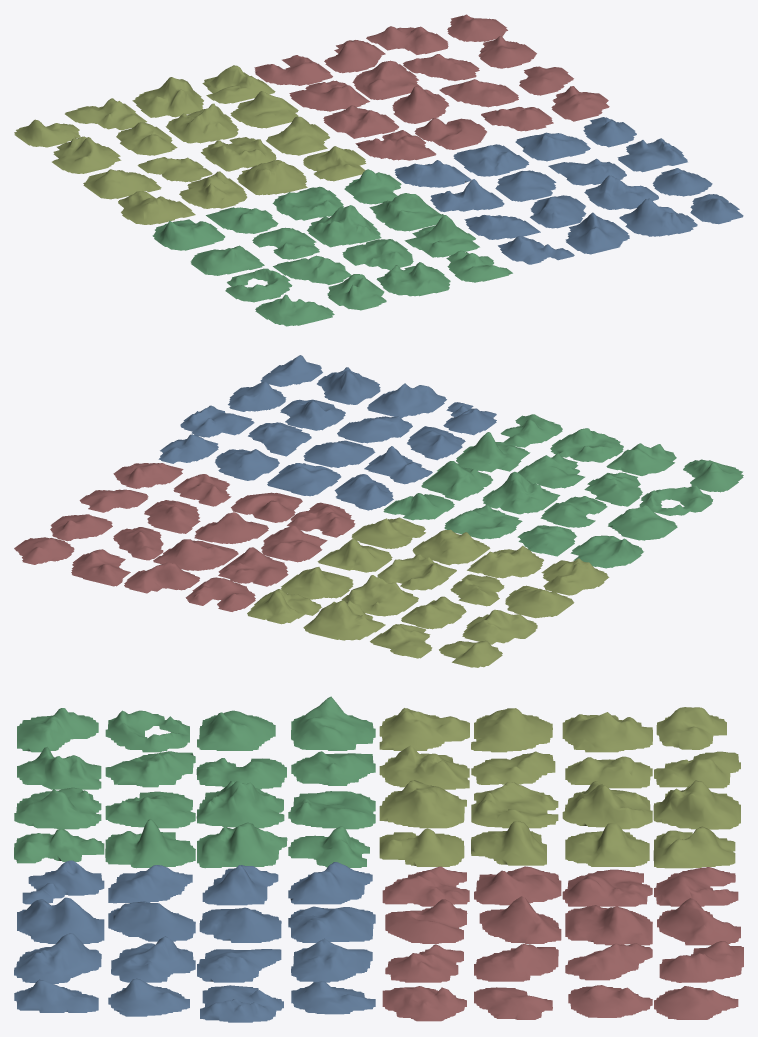
File: Islands Landscapes very low.fbx
3 renders of one model, top to bottom at view 1: azimuth 30°, elevation 25°; view 2: azimuth 150°, elevation 25°; view 3: azimuth 270°, elevation 25°, orthographic. The views are drawn at different scales.
Visible parts, largest first — view 1: Island 46 very low, Island 06 very low, Island 14 very low, Island 58 very low, Island 45 very low, Island 30 very low, Island 11 very low, Island 16 very low, Island 53 very low, Island 22 very low, Island 62 very low, Island 32 very low (+52 smaller); view 2: Island 06 very low, Island 46 very low, Island 14 very low, Island 22 very low, Island 59 very low, Island 30 very low, Island 16 very low, Island 53 very low, Island 11 very low, Island 12 very low, Island 62 very low, Island 32 very low (+52 smaller); view 3: Island 30 very low, Island 06 very low, Island 22 very low, Island 46 very low, Island 14 very low, Island 45 very low, Island 40 very low, Island 11 very low, Island 62 very low, Island 53 very low, Island 59 very low, Island 16 very low (+52 smaller).
Boxes of the visible parts, x1,y1,x2,y2 form: Island 46 very low: [307, 205, 381, 247]; Island 06 very low: [132, 77, 203, 117]; Island 14 very low: [165, 103, 238, 143]; Island 58 very low: [619, 198, 697, 236]; Island 45 very low: [369, 193, 443, 231]; Island 30 very low: [237, 160, 307, 195]; Island 11 very low: [352, 60, 421, 99]; Island 16 very low: [52, 136, 121, 173]; Island 53 very low: [404, 215, 479, 257]; Island 22 very low: [201, 137, 276, 171]; Island 62 very low: [376, 262, 450, 296]; Island 32 very low: [118, 191, 195, 224]; Island 06 very low: [303, 600, 385, 640]; Island 46 very low: [482, 471, 560, 514]; Island 14 very low: [341, 575, 418, 616]; Island 22 very low: [377, 554, 456, 590]; Island 59 very low: [367, 383, 446, 418]; Island 30 very low: [412, 529, 490, 565]; Island 16 very low: [462, 609, 537, 644]; Island 53 very low: [456, 432, 530, 472]; Island 11 very low: [153, 539, 238, 570]; Island 12 very low: [218, 547, 288, 586]; Island 62 very low: [550, 428, 623, 462]; Island 32 very low: [541, 558, 609, 595]; Island 30 very low: [379, 780, 466, 828]; Island 06 very low: [653, 780, 740, 829]; Island 22 very low: [471, 782, 558, 828]; Island 46 very low: [196, 781, 284, 828]; Island 14 very low: [562, 781, 652, 829]; Island 45 very low: [197, 822, 287, 868]; Island 40 very low: [291, 696, 375, 750]; Island 11 very low: [565, 905, 652, 945]; Island 62 very low: [14, 787, 101, 829]; Island 53 very low: [105, 819, 195, 868]; Island 59 very low: [17, 897, 104, 943]; Island 16 very low: [562, 712, 652, 752].
Size of the model in its own units: 1022 by 50.82 by 1022.
